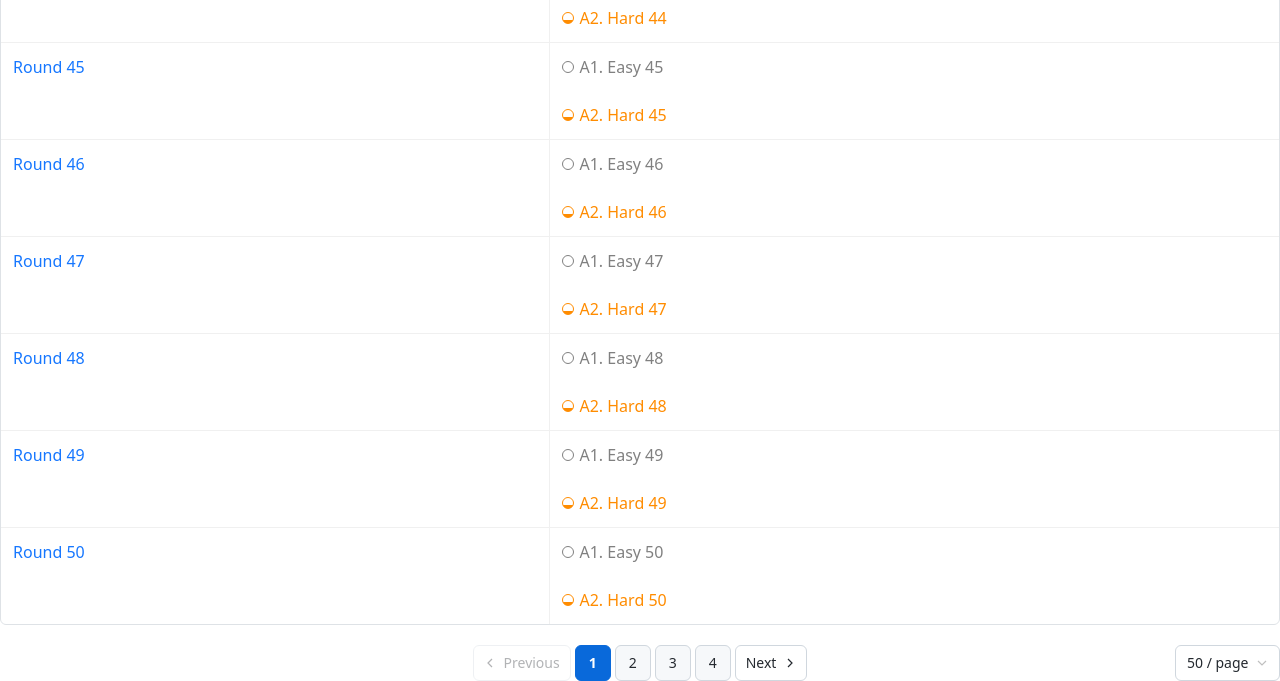
it: paginates before generating cells and retains the selected page on order changes
The width and height of the screenshot is (1280, 681).
Later steps or results of the test are not shown.
(page scrolled)
Check: the column heading "B" is not shown
Click the button with aria-label "Next Page": (771, 663) [735,645,807,680]
(page scrolled)
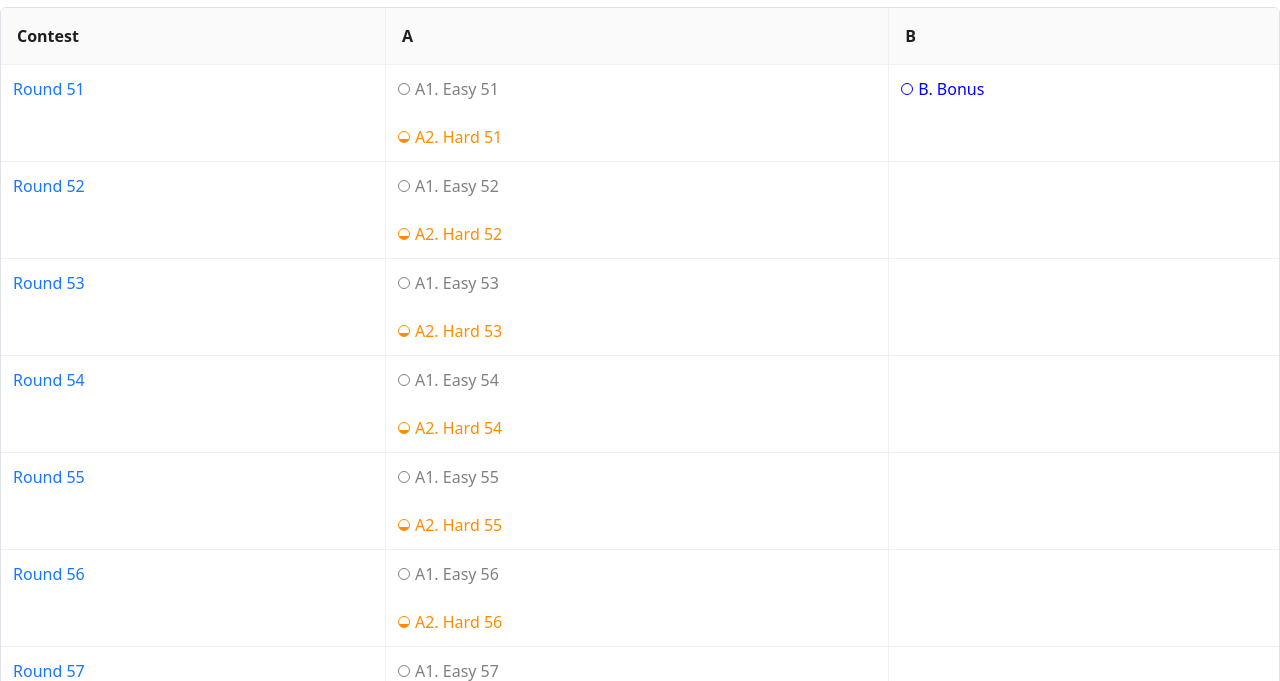
Check: the column heading "B" is shown, box [889,8,1279,65]
Check: the link "Round 51" is shown, box [13,78,85,100]
